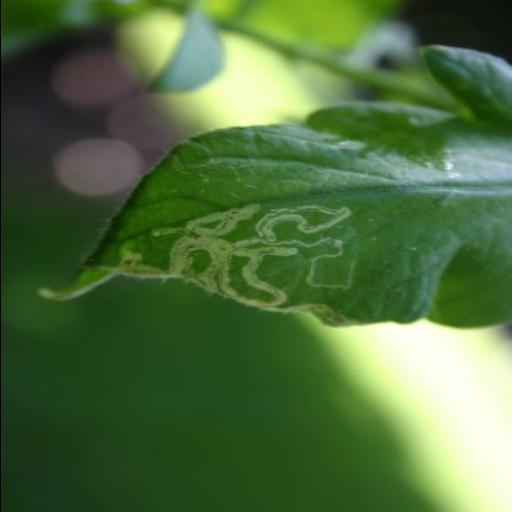Leaf Miner: (34, 46, 512, 328)
